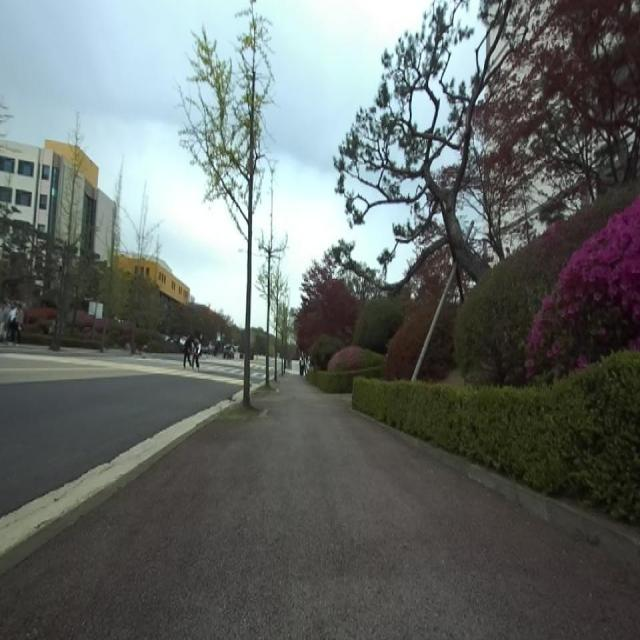sidewalk: (0, 374, 640, 639), (0, 401, 239, 575)
